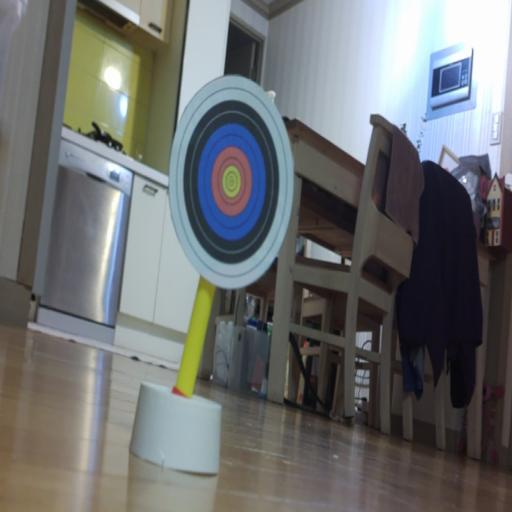target: (168, 76, 293, 288)
